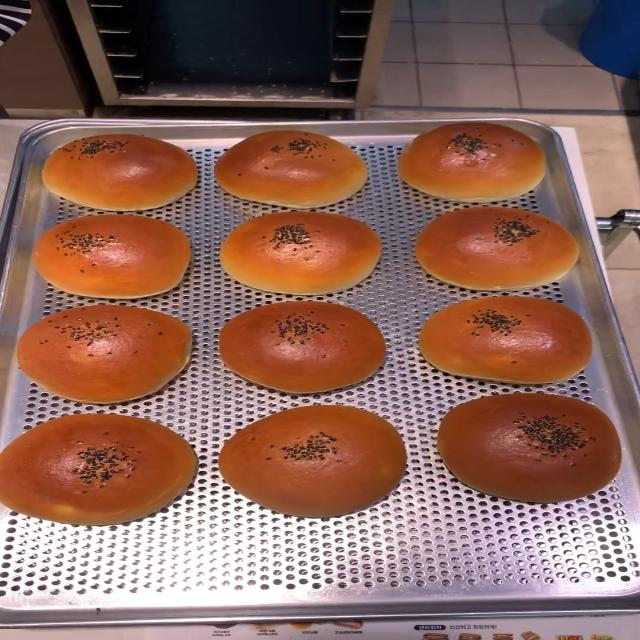bread: (0, 410, 205, 529), (431, 392, 628, 508), (219, 403, 410, 520), (12, 303, 203, 403), (215, 298, 392, 395), (419, 302, 596, 386), (32, 210, 190, 302), (216, 209, 384, 295), (412, 209, 579, 287), (212, 128, 368, 206), (38, 132, 190, 209), (396, 121, 543, 199)
